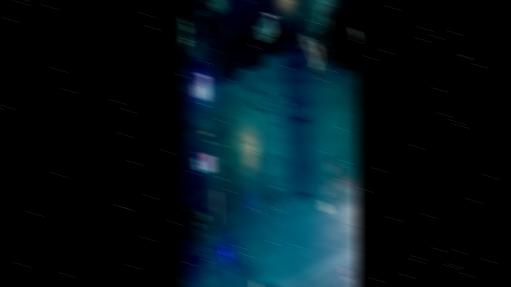Fish: (302, 34, 321, 73), (257, 15, 276, 41), (323, 175, 336, 195), (336, 168, 347, 190), (272, 198, 279, 224), (328, 153, 337, 173), (277, 195, 286, 209), (319, 201, 330, 212), (284, 97, 291, 109), (269, 121, 278, 129), (351, 29, 358, 39), (348, 277, 355, 286), (246, 88, 253, 96), (255, 207, 262, 215), (296, 192, 313, 195), (267, 94, 272, 104), (341, 268, 348, 275), (244, 98, 251, 105), (293, 117, 308, 120), (262, 87, 267, 96), (251, 201, 258, 207), (255, 198, 260, 206), (252, 103, 257, 111), (265, 111, 274, 115), (295, 199, 300, 205), (257, 107, 262, 112), (302, 207, 307, 212), (258, 198, 263, 203), (246, 112, 251, 116), (257, 89, 262, 93), (264, 105, 269, 107), (184, 280, 186, 283)
